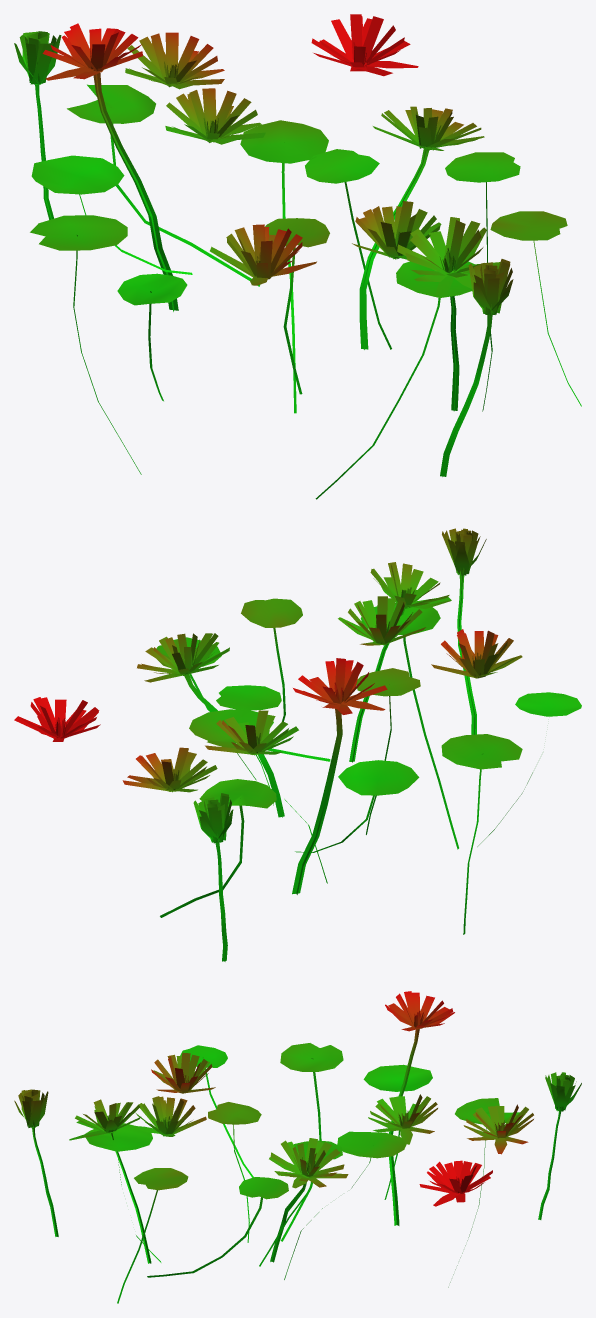
File: Var6_LOD2.fbx
The picture shows the model from 3 angles, top to bottom: view 1: azimuth 30°, elevation 25°; view 2: azimuth 150°, elevation 25°; view 3: azimuth 270°, elevation 25°; orthographic projection. The views are drawn at different scales.
Visible parts, largest first — view 1: _2282_Var6_LOD2; view 2: _2282_Var6_LOD2; view 3: _2282_Var6_LOD2.
Part boxes in pixels (box(x1,y1,x2,y2)): _2282_Var6_LOD2: box(14, 14, 581, 499); _2282_Var6_LOD2: box(14, 528, 581, 961); _2282_Var6_LOD2: box(14, 991, 581, 1303).
Size of the model in its own units: 140 by 103 by 203.
